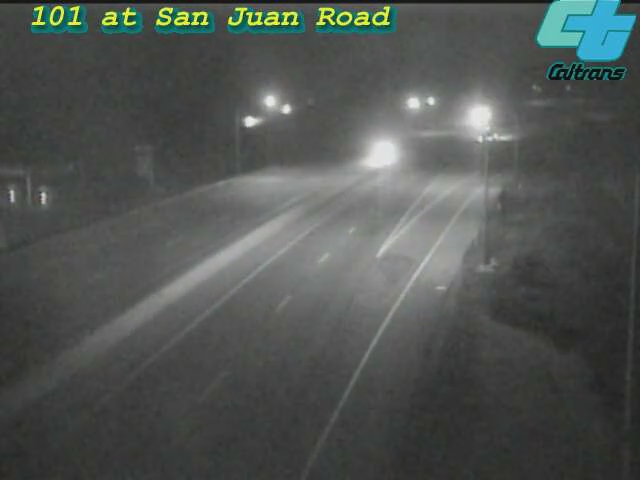vehicle: (353, 129, 403, 179), (453, 91, 503, 141), (460, 111, 510, 161)
